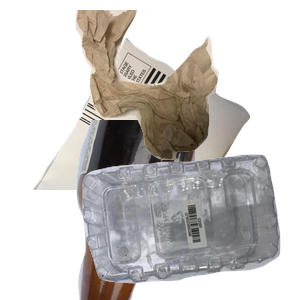glass: (60, 120, 300, 300)
paper: (31, 35, 271, 215)
plastic: (80, 152, 300, 300)
trash: (73, 10, 300, 163)
